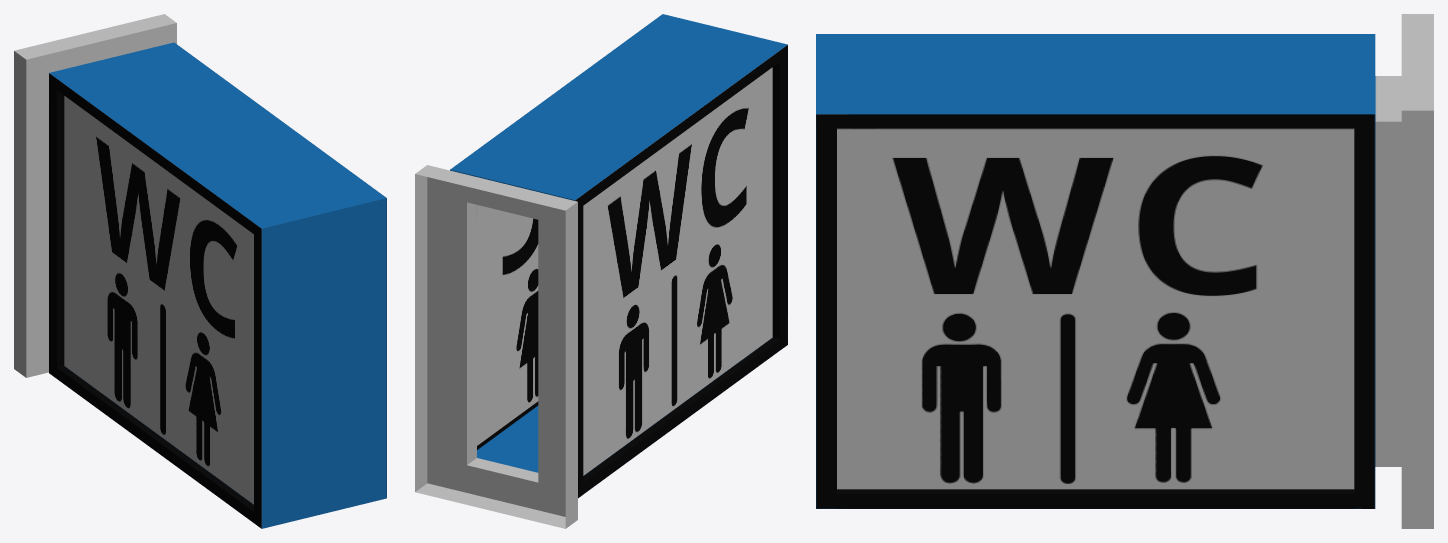
File: airport_toiletrestroom_sign.glb
3 renders of one model, left to right at view 1: azimuth 30°, elevation 25°; view 2: azimuth 150°, elevation 25°; view 3: azimuth 270°, elevation 25°, orthographic. The views are drawn at different scales.
Parts seen in each view (by area): view 1: Plane; view 2: Plane; view 3: Plane.
Boxes of the visible parts, x1,y1,x2,y2 form: Plane: (14, 14, 386, 528); Plane: (415, 14, 787, 528); Plane: (816, 14, 1433, 528).
Size of the model in its own units: 1.64 by 3.3 by 4.42.
1 material, 1 textured.
